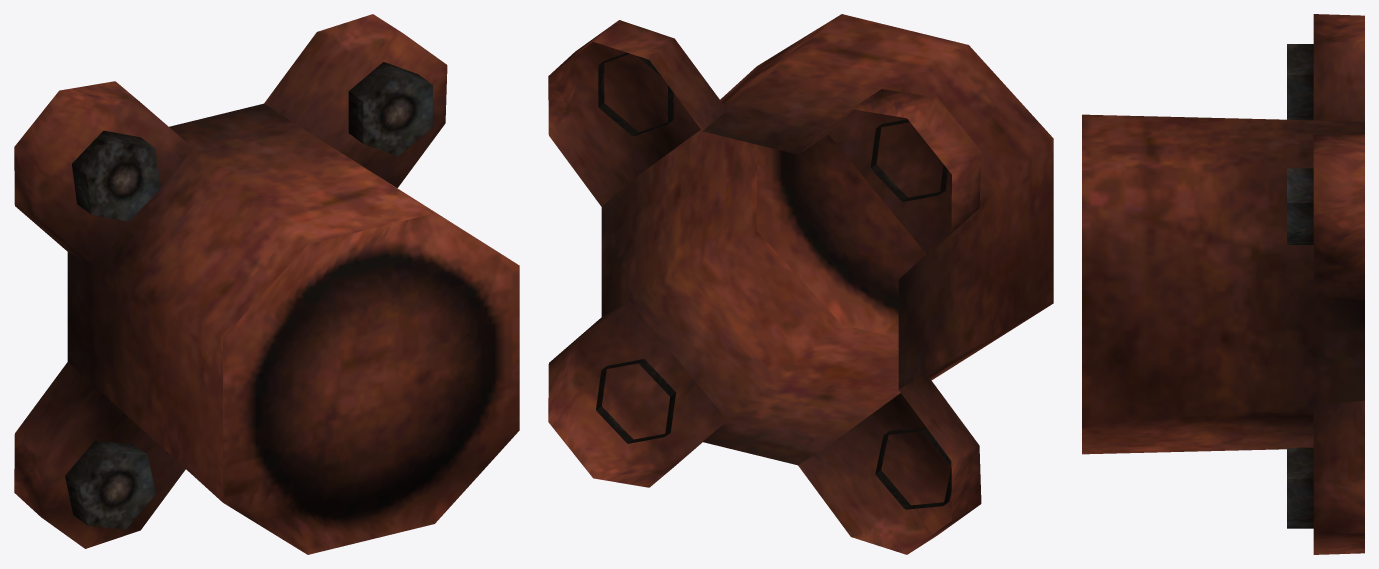
The model's file is cables_hanging_connector.dae.
3 views of the same model, side by side, from view 1: azimuth 30°, elevation 25°; view 2: azimuth 150°, elevation 25°; view 3: azimuth 270°, elevation 25° (orthographic). The views are drawn at different scales.
Visible parts, largest first — view 1: polySurface860; view 2: polySurface860; view 3: polySurface860.
Part boxes in pixels (box(x1,y1,x2,y2)): polySurface860: box(14, 14, 519, 554); polySurface860: box(548, 14, 1053, 554); polySurface860: box(1082, 14, 1364, 554).
Bounding box in the file's own units: 0.2134 × 0.2199 × 0.1411.
